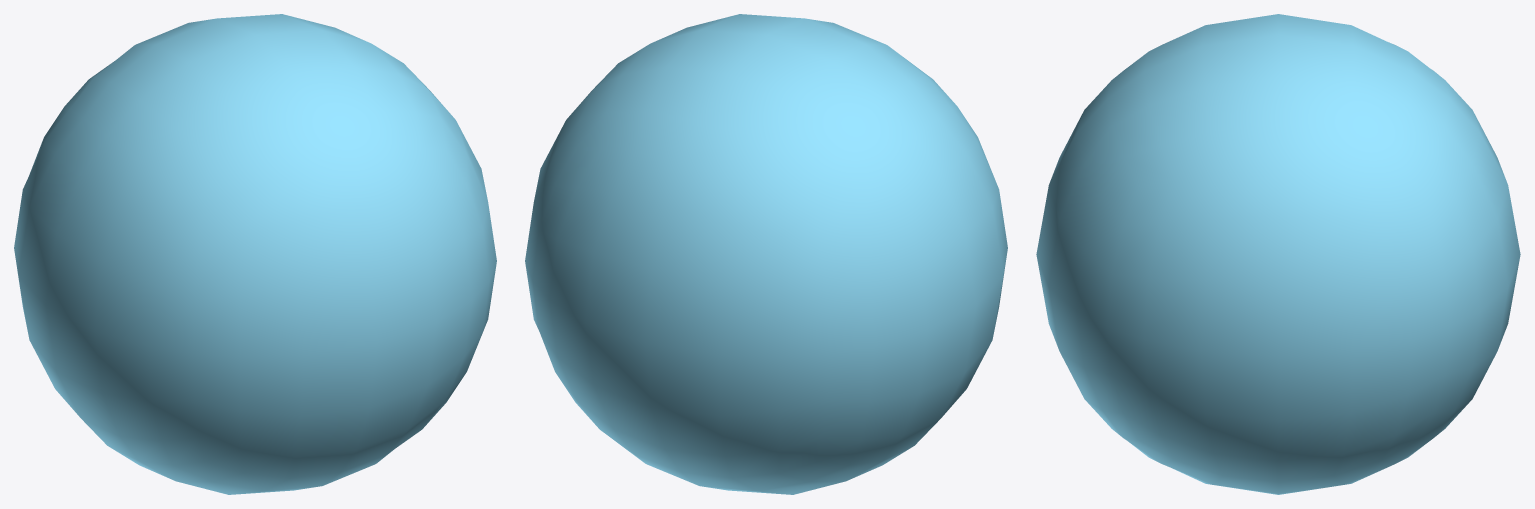
Rendered from obj_Background_001.FBX.
The picture shows the model from 3 angles, left to right: view 1: azimuth 30°, elevation 25°; view 2: azimuth 150°, elevation 25°; view 3: azimuth 270°, elevation 25°; orthographic projection.
Parts seen in each view (by area): view 1: mesh_Background_001; view 2: mesh_Background_001; view 3: mesh_Background_001.
Boxes of the visible parts, box(x1,y1,x2,y2) form: mesh_Background_001: box(14, 14, 496, 494); mesh_Background_001: box(525, 14, 1007, 494); mesh_Background_001: box(1036, 14, 1520, 494).
Size of the model in its own units: 8338 by 8338 by 8338.
